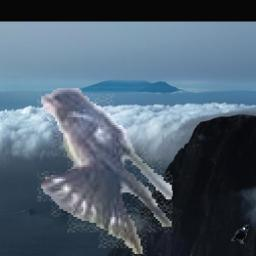Crow: (231, 225, 249, 244)
Swallow: (38, 88, 174, 256)
